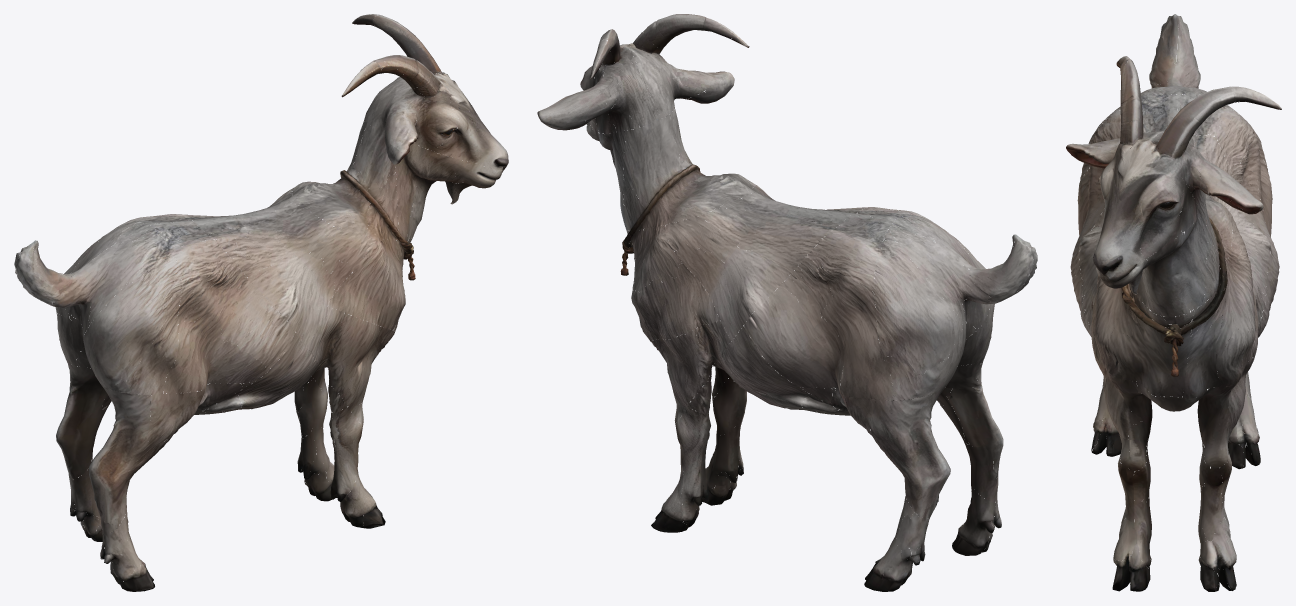
File: goat.glb
3 renders of one model, left to right at view 1: azimuth 30°, elevation 25°; view 2: azimuth 150°, elevation 25°; view 3: azimuth 270°, elevation 25°, orthographic. The views are drawn at different scales.
Parts seen in each view (by area): view 1: tripo_node_847fcc41-e286-48b5-947a-4598315e16c7; view 2: tripo_node_847fcc41-e286-48b5-947a-4598315e16c7; view 3: tripo_node_847fcc41-e286-48b5-947a-4598315e16c7.
Part boxes in pixels (x1,y1,x2,y2): tripo_node_847fcc41-e286-48b5-947a-4598315e16c7: (14, 14, 508, 591); tripo_node_847fcc41-e286-48b5-947a-4598315e16c7: (537, 14, 1037, 591); tripo_node_847fcc41-e286-48b5-947a-4598315e16c7: (1066, 14, 1281, 591).
Bounding box in the file's own units: 0.9799 × 0.9357 × 0.345.
Materials: 1 (1 with a texture image).
